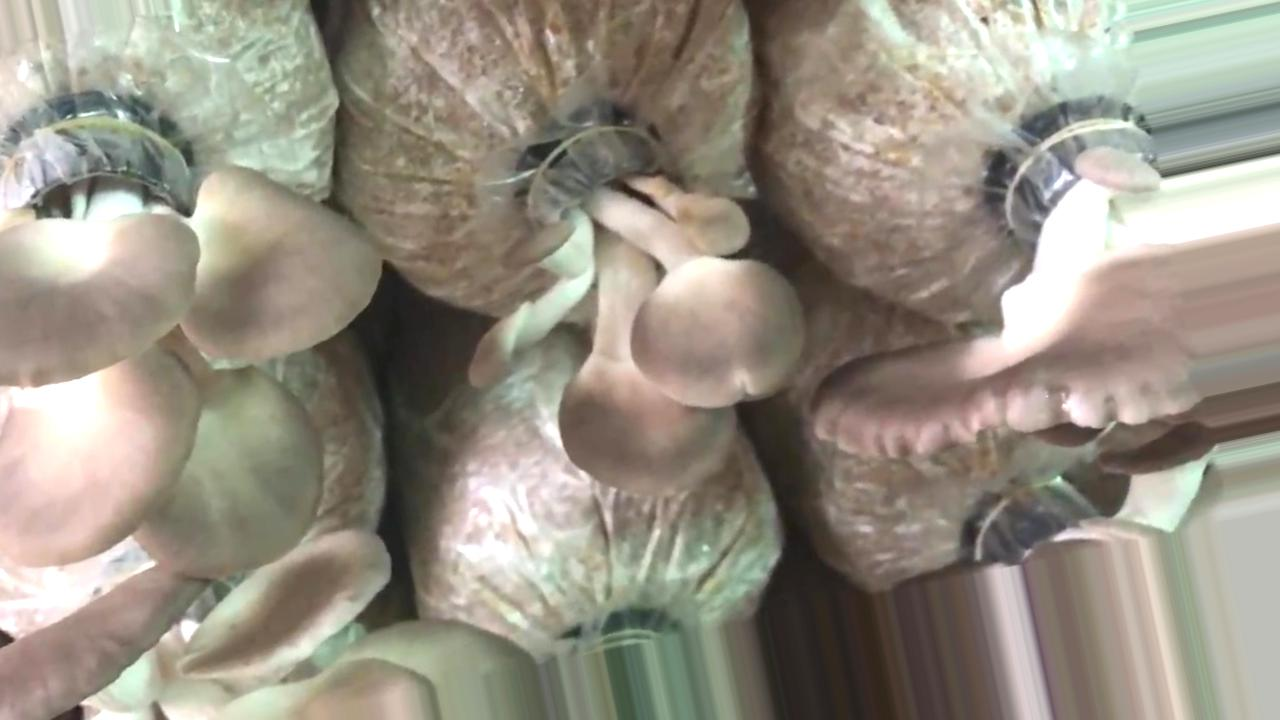nam: (1, 102, 384, 574), (811, 95, 1206, 459), (466, 103, 809, 499), (1, 546, 545, 716)
